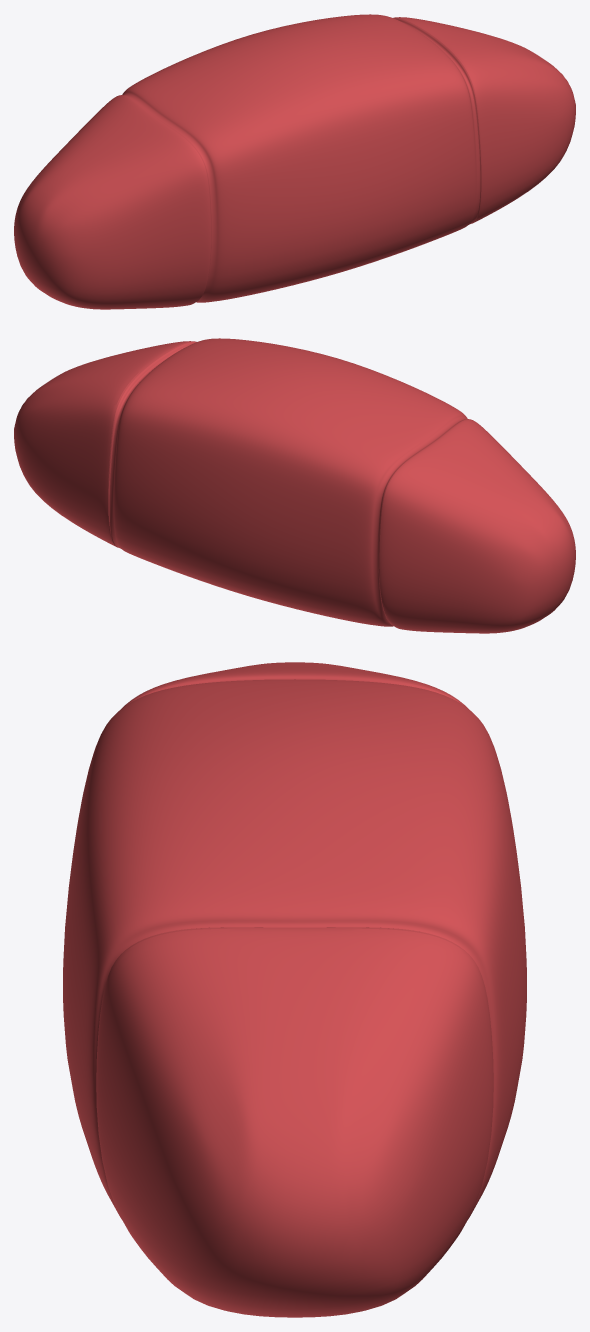
3 views of the same model, one above another, from view 1: azimuth 30°, elevation 25°; view 2: azimuth 150°, elevation 25°; view 3: azimuth 270°, elevation 25° (orthographic). The views are drawn at different scales.
Parts seen in each view (by area): view 1: 球体.019; view 2: 球体.019; view 3: 球体.019.
Boxes of the visible parts, x1=… form: 球体.019: x1=14, y1=14, x2=575, y2=309; 球体.019: x1=14, y1=338, x2=575, y2=633; 球体.019: x1=63, y1=662, x2=526, y2=1317.
Size of the model in its own units: 62.85 by 22.84 by 23.22.
